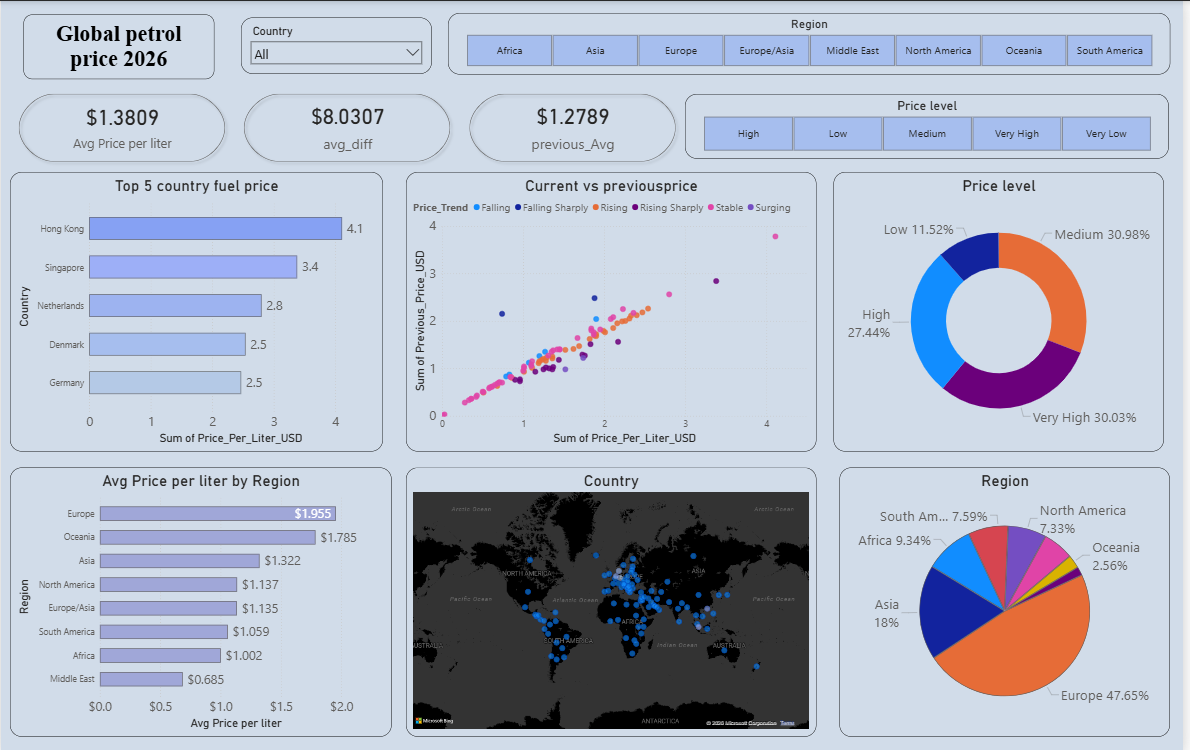

Layout of this report page (visuals, bound fields, positions):
{"tool":"powerbi","page":{"name":"Page 1","canvas":[2000,1275],"ordinal":0},"visuals":[{"type":"cardVisual","fields":{"Data":["Table1.Avg Price per liter","Table1.avg_diff","Table1.pre_Avg"]},"box":[11.5,138.3,1146.4,149.8],"z":0},{"type":"clusteredBarChart","title":"Top 5 country fuel price","fields":{"Category":["Table1.Country"],"Y":["Sum(Table1.Price_Per_Liter_USD)"]},"box":[14.4,288,630.8,472.4],"z":1000},{"type":"clusteredBarChart","fields":{"Category":["Table1.Region"],"Y":["Table1.Avg Price per liter"]},"box":[14.4,789.2,645.2,455.1],"z":2000},{"type":"donutChart","title":"Price level ","fields":{"Category":["Table1.Price_Level"],"Y":["Sum(Table1.Price_Per_Liter_USD)","Sum(Table1.Price_Per_Liter_USD)"]},"box":[1408.5,288,558.8,472.4],"z":3000},{"type":"scatterChart","title":"Current vs previousprice","fields":{"X":["Sum(Table1.Price_Per_Liter_USD)"],"Y":["Sum(Table1.Previous_Price_USD)"],"Category":["Table1.Country"],"Series":["Table1.Price_Trend"]},"box":[685.5,288,694.2,472.4],"z":4000},{"type":"map","fields":{"Category":["Table1.Country"]},"box":[685.5,789.2,694.2,455.1],"z":5000},{"type":"pieChart","title":"Region","fields":{"Y":["Sum(Table1.Price_Per_Liter_USD)"],"Category":["Table1.Region"]},"box":[1417.1,789.2,558.8,455.1],"z":6000},{"type":"textbox","box":[37.4,23,322.6,109.5],"z":7000},{"type":"slicer","fields":{"Values":["Table1.Country"]},"box":[405.9,27.7,322.9,95.3],"z":8000},{"type":"slicer","title":"Region","fields":{"Values":["Table1.Region"]},"box":[754.6,20.2,1221.3,103.7],"z":9000},{"type":"slicer","title":"Price level","fields":{"Values":["Table1.Price_Level"]},"box":[1157.9,158.4,818,109.5],"z":9001}]}

Visuals, with their boxes in screenshot pixels (x1, y1, x2, y2), scaled from the page's 2000x1275 canvas onto the 1190x750 screenshot:
cardVisual - Table1.Avg Price per liter x Table1.avg_diff: (7,81,689,169)
"Top 5 country fuel price" clusteredBarChart: (9,169,384,447)
clusteredBarChart - Table1.Region x Table1.Avg Price per liter: (9,464,392,732)
"Price level " donutChart: (838,169,1171,447)
"Current vs previousprice" scatterChart: (408,169,821,447)
map - Table1.Country: (408,464,821,732)
"Region" pieChart: (843,464,1176,732)
textbox: (22,14,214,78)
slicer - Table1.Country: (242,16,434,72)
"Region" slicer: (449,12,1176,73)
"Price level" slicer: (689,93,1176,158)
